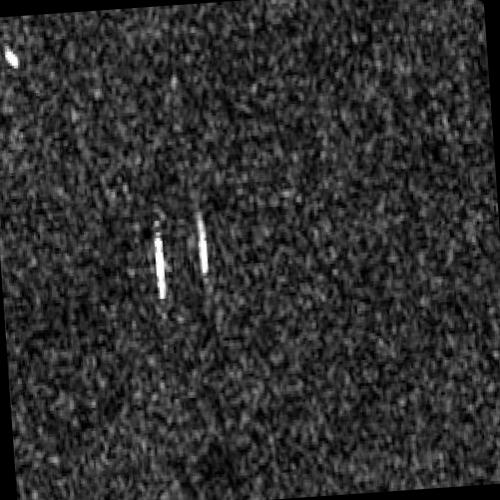ship: (153, 225, 166, 302), (196, 214, 209, 276), (3, 44, 21, 71)
